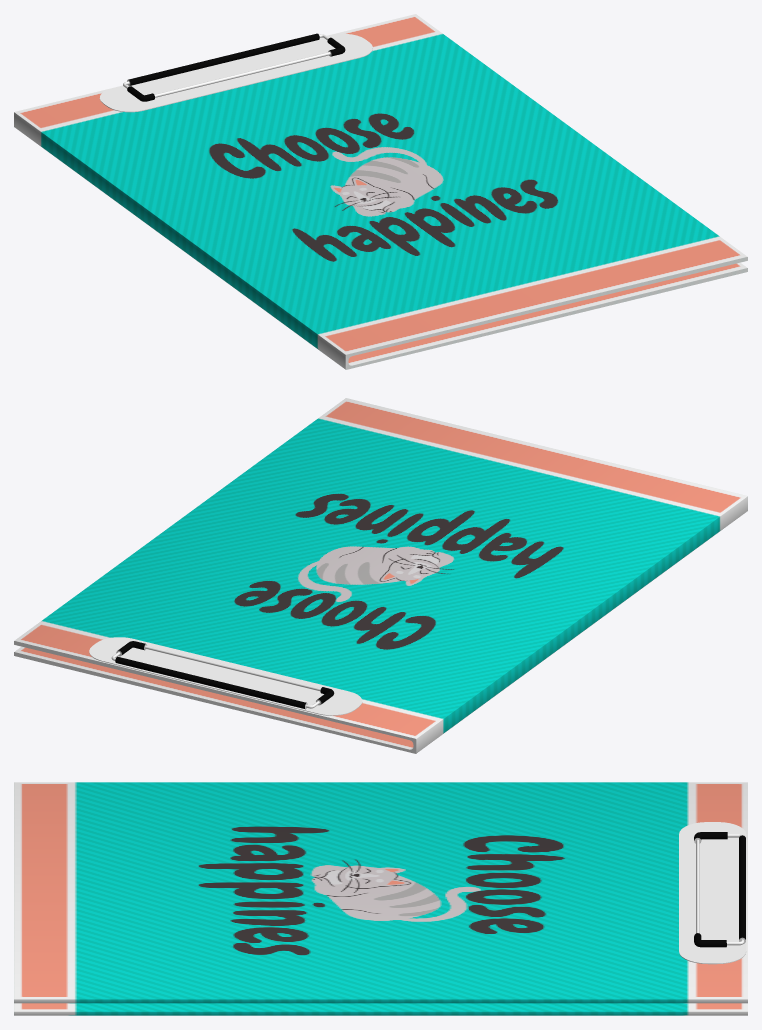
Rendered from File folder.fbx.
3 views of the same model, one above another, from view 1: azimuth 30°, elevation 25°; view 2: azimuth 150°, elevation 25°; view 3: azimuth 270°, elevation 25° (orthographic). The views are drawn at different scales.
Visible parts, largest first — view 1: File folder; view 2: File folder; view 3: File folder.
Part boxes in pixels (x1,y1,x2,y2): File folder: (14, 14, 747, 369); File folder: (14, 398, 747, 753); File folder: (14, 782, 747, 1015).
Size of the model in its own units: 21 by 1.09 by 30.
